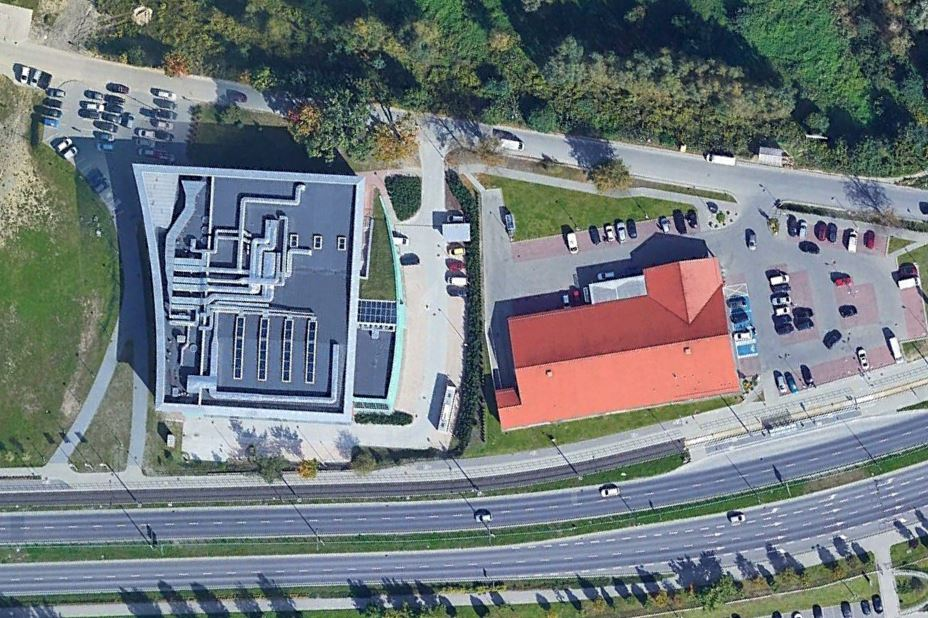shopping_center: (126, 157, 404, 444), (480, 253, 755, 434)
